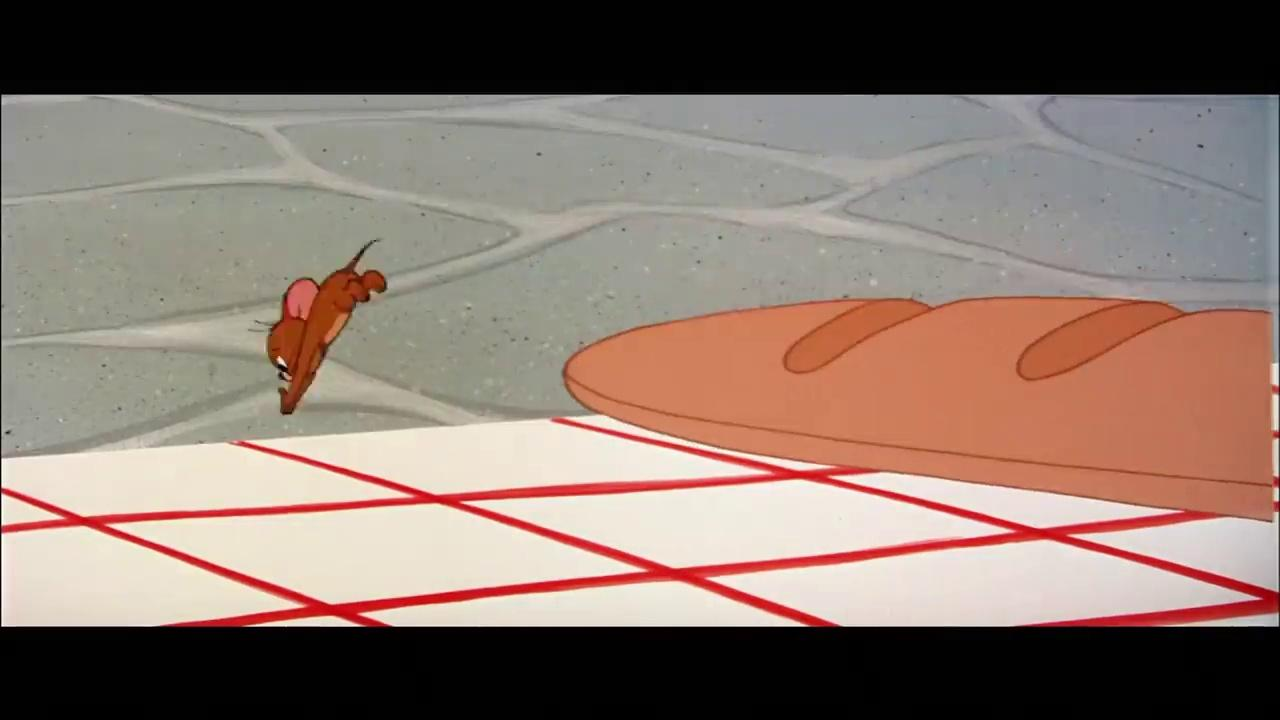Jerry: (248, 236, 389, 418)
